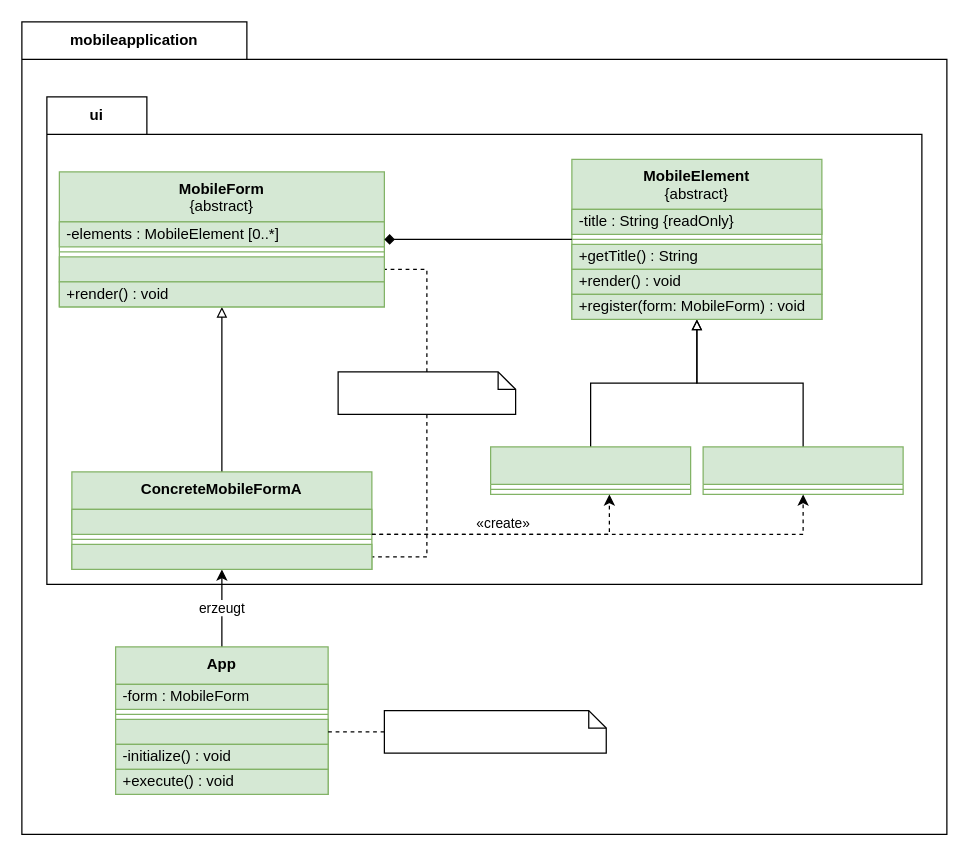
Some shapes in this 969 by 856 pixel diagram are drawn without their labels. The shapes that lost their labels are listed below. From the top down, each one's centre as x and y in pixels, then its label:
(x=221, y=269): #addElement(title: String) : MobileElement
(x=426, y=392): Factory Method
(x=590, y=470): ConcreteMobileElementA
(x=802, y=470): ConcreteMobileElementB
(x=221, y=521): -os : String
(x=221, y=556): # addElement(title: String) : MobileElement
(x=221, y=731): -getOS() : String
(x=494, y=731): "Android" oder "iOS"
